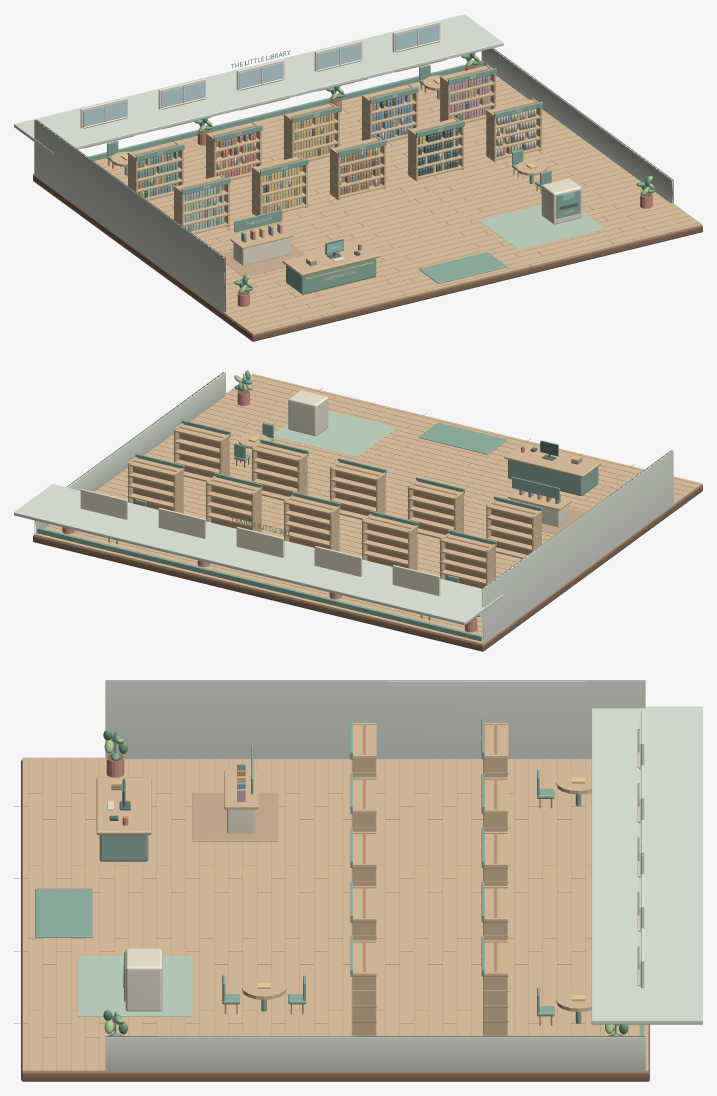
Rendered from library.glb.
The picture shows the model from 3 angles, top to bottom: view 1: azimuth 30°, elevation 25°; view 2: azimuth 150°, elevation 25°; view 3: azimuth 270°, elevation 25°; orthographic projection. The views are drawn at different scales.
Visible parts, largest first — view 1: Library_oak_light, Library_wall, Library_sage, Library_oak, Library_cream, Library_oak_dark, Library_mint, Library_glass, Library_coral, Library_dark, Library_gold, Library_yellow (+5 smaller); view 2: Library_oak_light, Library_wall, Library_oak, Library_sage, Library_cream, Library_oak_dark, Library_mint, Library_coral; view 3: Library_oak_light, Library_wall, Library_oak, Library_sage, Library_oak_dark, Library_cream, Library_mint, Library_rug, Library_leaf.
Part boxes in pixels (x1=…): Library_oak_light: x1=33, y1=59, x2=702, y2=334; Library_wall: x1=14, y1=14, x2=673, y2=313; Library_sage: x1=88, y1=50, x2=580, y2=294; Library_oak: x1=98, y1=68, x2=698, y2=332; Library_cream: x1=80, y1=21, x2=581, y2=280; Library_oak_dark: x1=33, y1=64, x2=702, y2=341; Library_mint: x1=145, y1=109, x2=604, y2=249; Library_glass: x1=83, y1=24, x2=438, y2=128; Library_coral: x1=139, y1=66, x2=652, y2=306; Library_dark: x1=137, y1=98, x2=577, y2=258; Library_gold: x1=142, y1=97, x2=516, y2=279; Library_yellow: x1=121, y1=78, x2=537, y2=214; Library_oak_light: x1=33, y1=374, x2=702, y2=644; Library_wall: x1=14, y1=372, x2=673, y2=643; Library_oak: x1=38, y1=375, x2=698, y2=641; Library_sage: x1=37, y1=420, x2=598, y2=641; Library_cream: x1=80, y1=390, x2=568, y2=595; Library_oak_dark: x1=33, y1=389, x2=702, y2=651; Library_mint: x1=274, y1=411, x2=396, y2=456; Library_coral: x1=62, y1=391, x2=582, y2=632; Library_oak_light: x1=22, y1=723, x2=648, y2=1071; Library_wall: x1=105, y1=680, x2=702, y2=1071; Library_oak: x1=14, y1=724, x2=628, y2=1069; Library_sage: x1=35, y1=719, x2=644, y2=1035; Library_oak_dark: x1=21, y1=754, x2=649, y2=1081; Library_cream: x1=107, y1=711, x2=644, y2=1011; Library_mint: x1=78, y1=956, x2=192, y2=1016; Library_rug: x1=192, y1=792, x2=278, y2=841; Library_leaf: x1=103, y1=729, x2=628, y2=1035.
Size of the model in its own units: 26 by 3.93 by 24.1.
